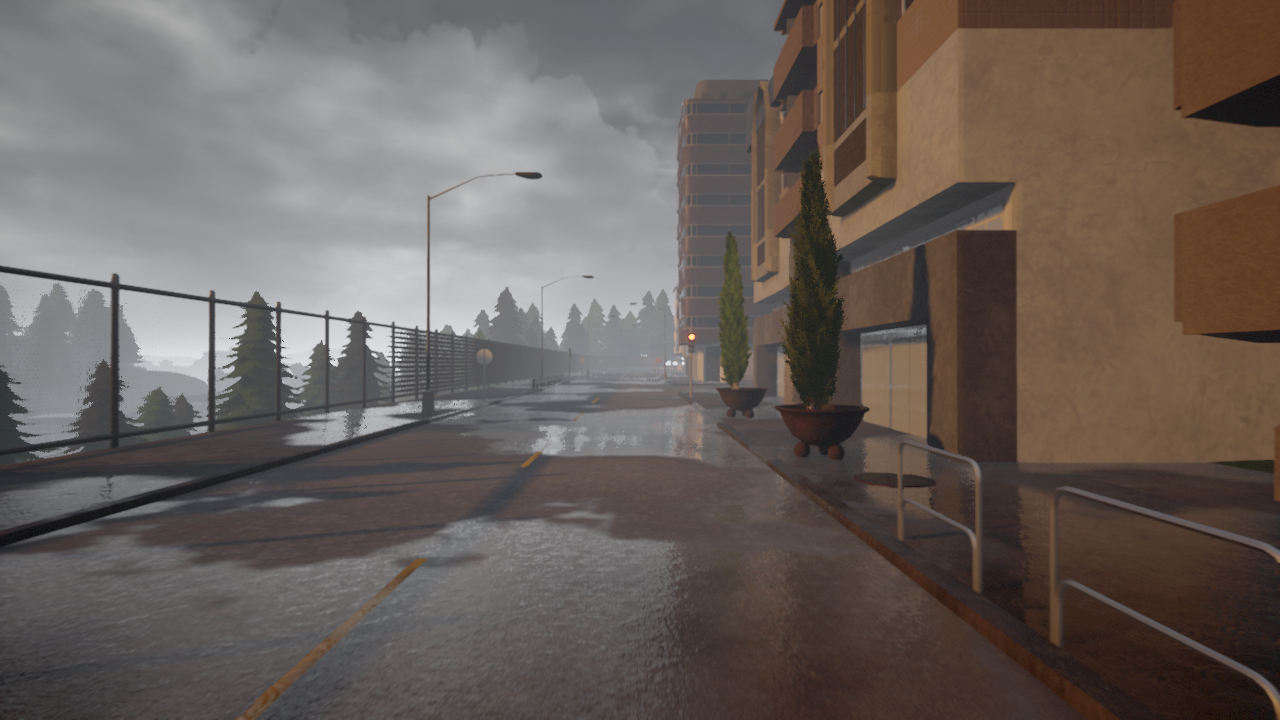red: (687, 332, 696, 354)
